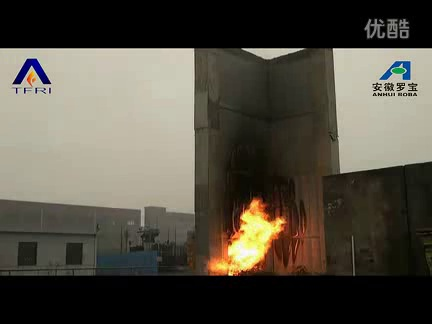fire: (220, 197, 288, 277)
